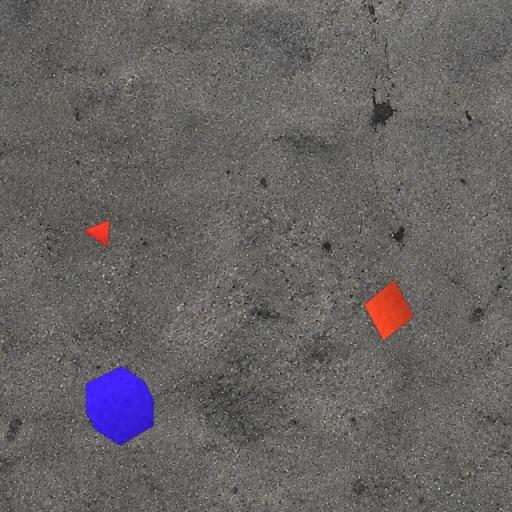RED_SQUARE: (364, 278, 415, 342)
